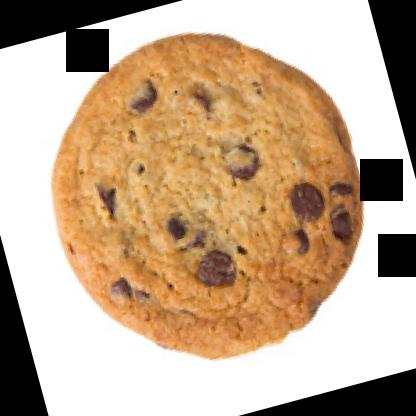cookie: (12, 0, 400, 403)
